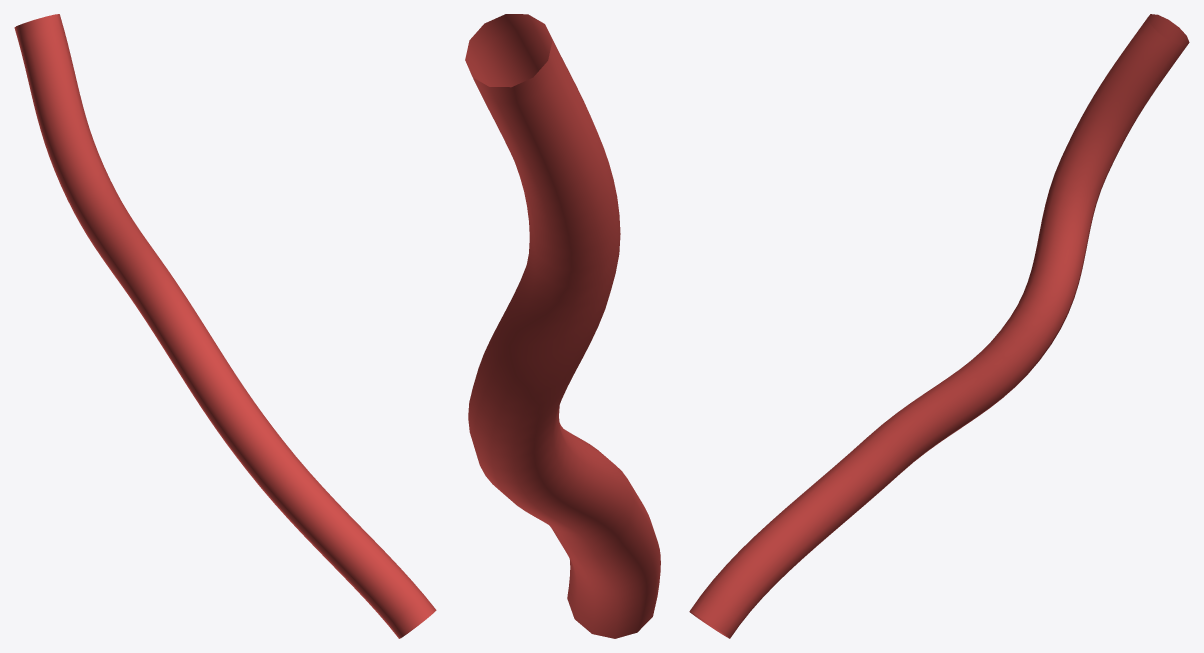
The picture shows the model from 3 angles, left to right: view 1: azimuth 30°, elevation 25°; view 2: azimuth 150°, elevation 25°; view 3: azimuth 270°, elevation 25°; orthographic projection. The views are drawn at different scales.
Parts seen in each view (by area): view 1: 右侧足底深动脉; view 2: 右侧足底深动脉; view 3: 右侧足底深动脉.
Part boxes in pixels (x1=…): 右侧足底深动脉: x1=14, y1=14, x2=436, y2=638; 右侧足底深动脉: x1=465, y1=14, x2=660, y2=638; 右侧足底深动脉: x1=689, y1=14, x2=1189, y2=638.
Size of the model in its own units: 0.0132 by 0.0315 by 0.0265.
